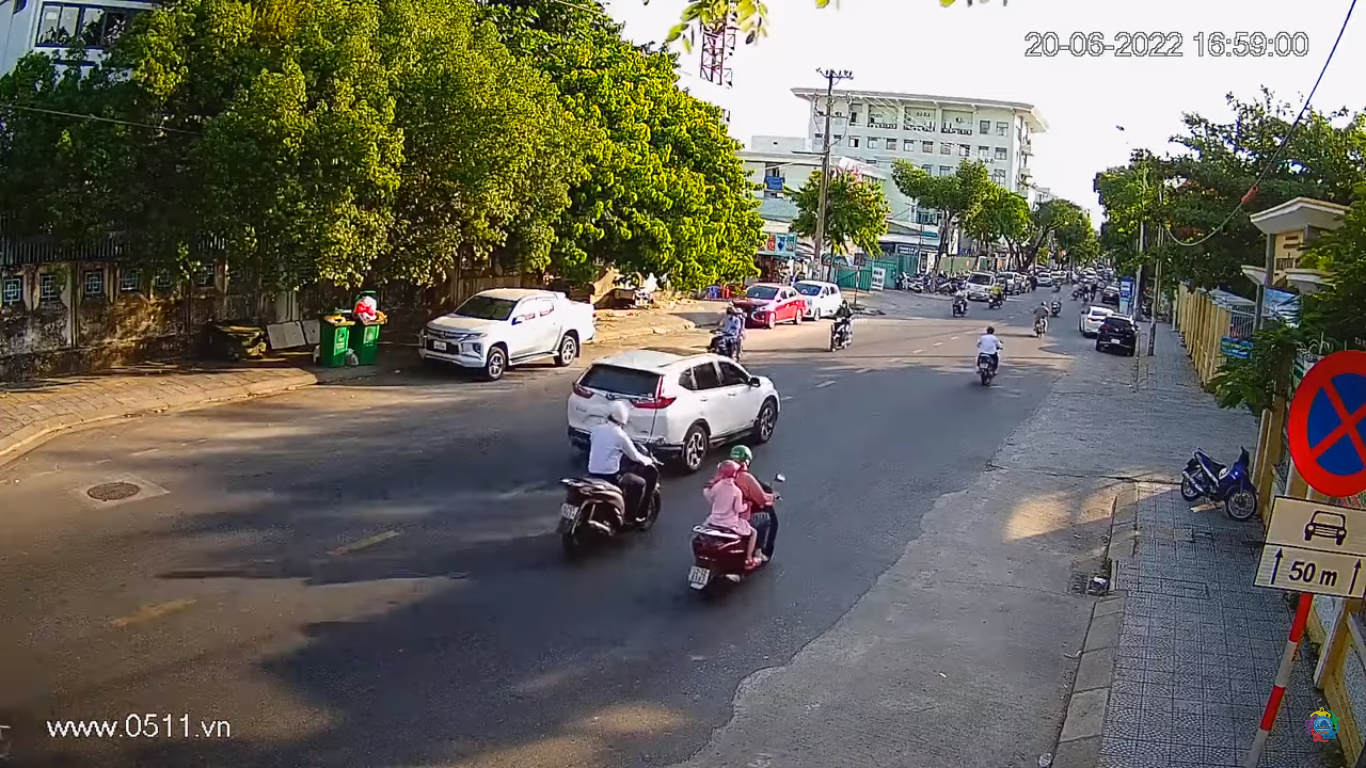car: (570, 347, 785, 468)
